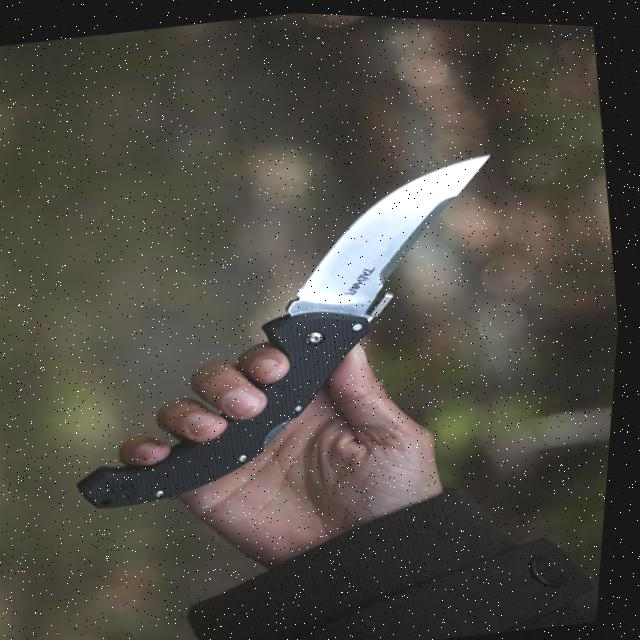knife: (30, 122, 554, 541)
